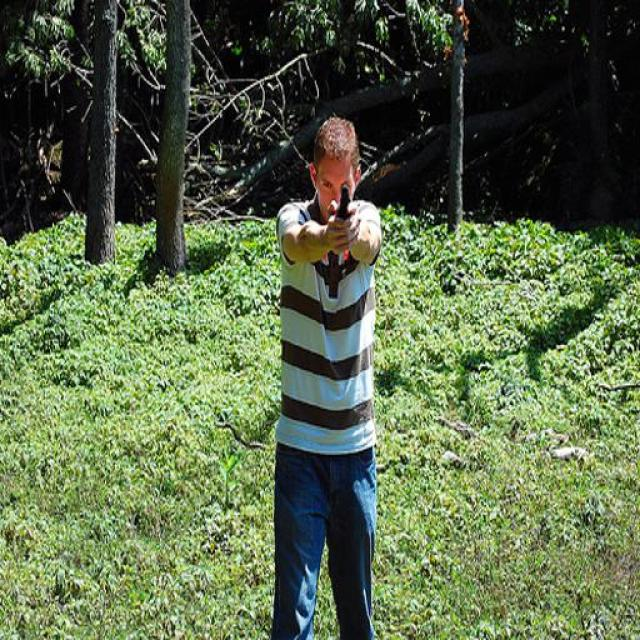pistol: (339, 180, 350, 221)
